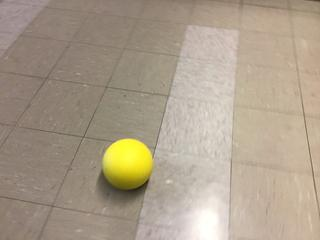power_cell: (100, 137, 156, 190)
